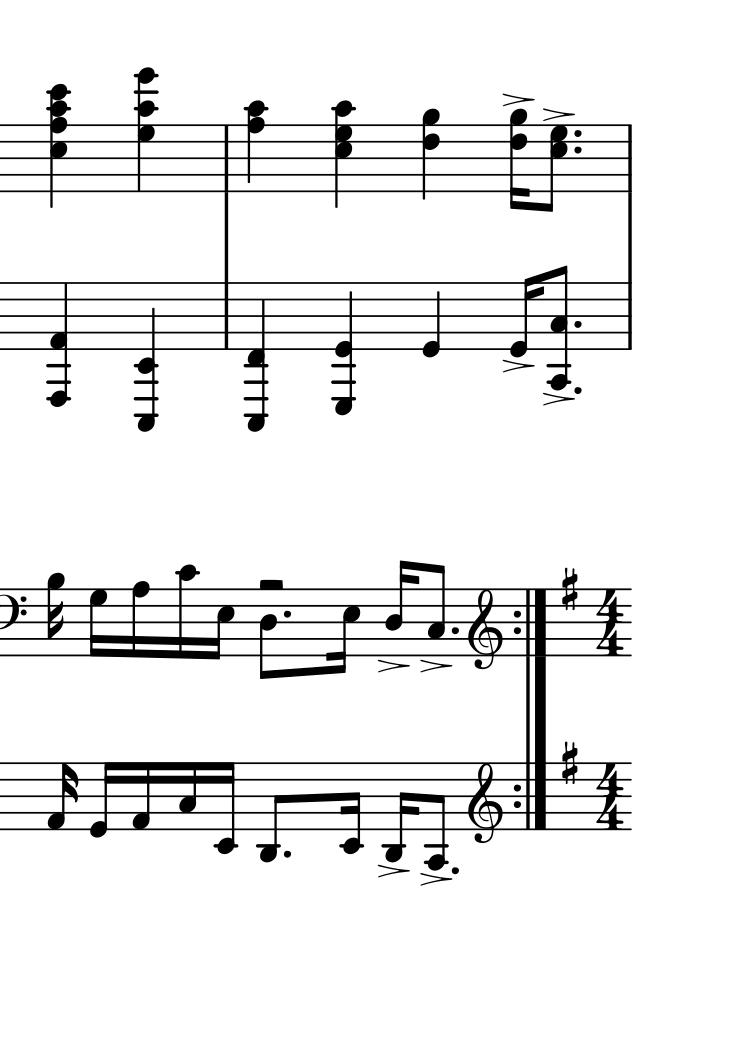16_-2: (338, 761, 363, 856), (214, 760, 237, 855)
16_-3: (383, 760, 415, 863)
16_-4: (422, 759, 449, 873)
16_0: (506, 274, 541, 359), (87, 761, 116, 840)
16_1: (45, 761, 79, 831), (129, 760, 152, 833)
16_10: (175, 563, 199, 660)
16_3: (177, 760, 199, 831)
16_4: (383, 559, 418, 656)
16_5: (327, 588, 361, 676), (209, 587, 235, 662)
16_6_9: (509, 107, 531, 212)
16_7: (87, 585, 108, 661)
16_8: (129, 580, 151, 661)
16_9: (45, 570, 66, 659)
4: (595, 586, 624, 625), (593, 621, 625, 655), (595, 761, 624, 797), (594, 797, 625, 830)
4_0: (421, 280, 442, 360)
4_4th: (43, 84, 72, 205)
4_6_9: (421, 106, 441, 202)
4_8_10: (243, 100, 268, 194)
4_th: (132, 67, 160, 194), (328, 98, 357, 205)
8_-3: (255, 761, 286, 864)
8_-4_3: (546, 265, 573, 390)
8_-6_1: (45, 282, 74, 408)
8_-7_0: (330, 280, 356, 418)
8_-9_-1: (241, 279, 268, 431)
8_-9_-2: (133, 280, 160, 432)
8_3: (426, 563, 446, 656)
8_4: (258, 589, 276, 681)
8_5_7: (542, 123, 569, 213)
Accent_above: (501, 358, 536, 375), (374, 658, 412, 673), (500, 92, 535, 108), (540, 106, 575, 122), (419, 659, 453, 675), (541, 390, 571, 407), (417, 872, 447, 888), (378, 864, 408, 879)
Fclef: (1, 586, 28, 657)
Gclef: (467, 587, 504, 671), (467, 761, 504, 845)
Rests2: (257, 575, 286, 594)
RightRepeatSign: (512, 589, 552, 656), (512, 761, 547, 829)
Sharp: (560, 566, 580, 614), (559, 740, 579, 787)
Single_barline: (217, 125, 236, 192), (218, 282, 235, 350), (621, 284, 638, 349), (621, 126, 638, 190)
TimeSig: (595, 588, 626, 657), (594, 761, 625, 830)
dot: (280, 607, 294, 622), (570, 144, 584, 157), (570, 127, 584, 139), (281, 847, 293, 861), (571, 318, 584, 330), (572, 384, 583, 396), (449, 864, 460, 876), (449, 623, 459, 636)
